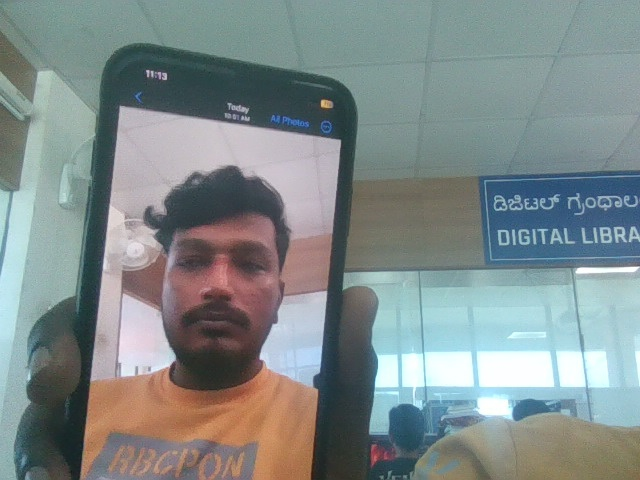fake: (143, 152, 301, 376)
